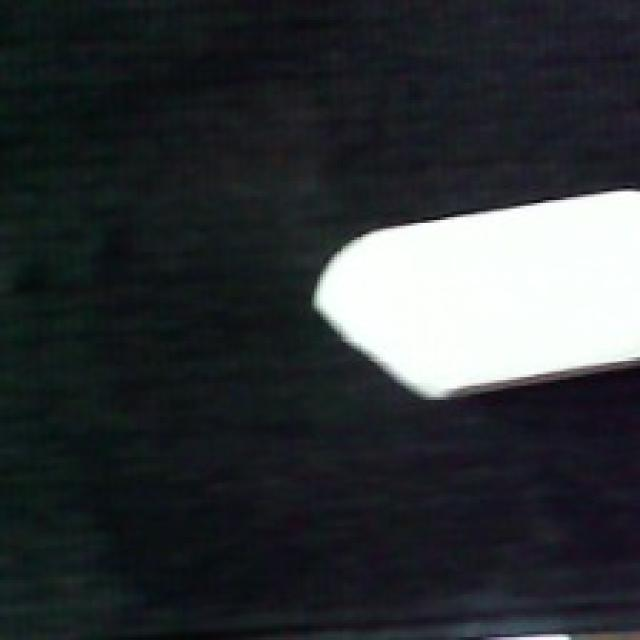defected: (305, 184, 640, 403)
